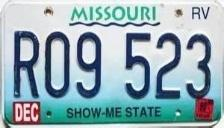0: (42, 29, 73, 99)
2: (153, 30, 184, 99)
3: (184, 31, 214, 99)
5: (123, 31, 153, 100)
9: (74, 31, 105, 99)
R: (12, 28, 43, 100)
